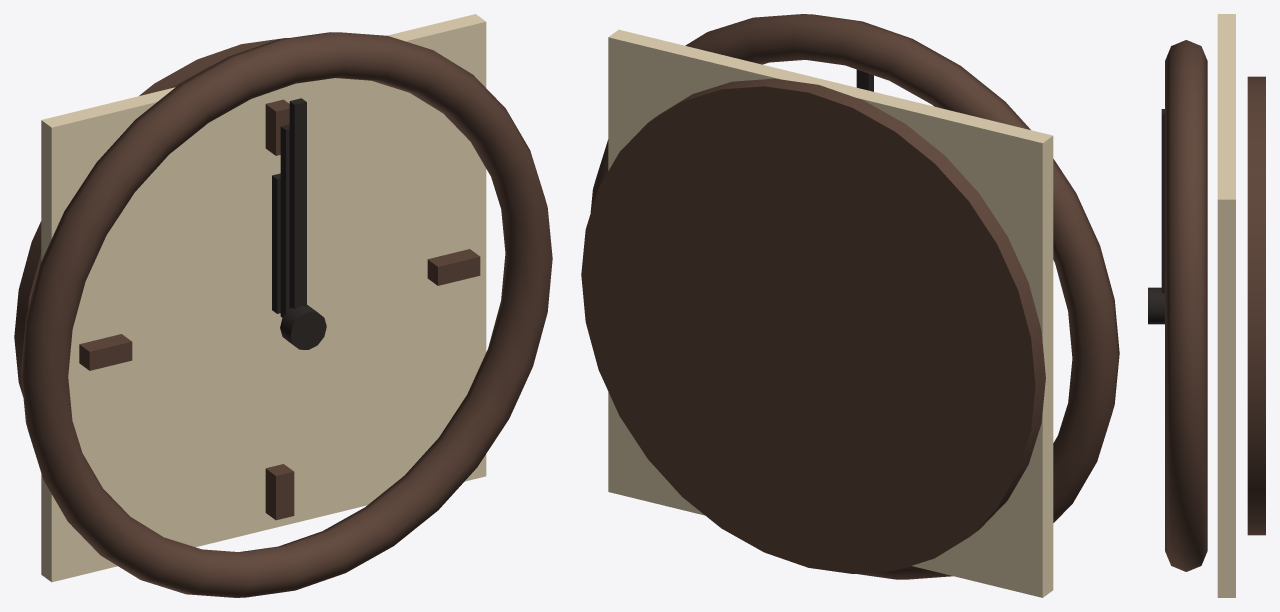
File: analog-round-v1-model.glb
3 views of the same model, side by side, from view 1: azimuth 30°, elevation 25°; view 2: azimuth 150°, elevation 25°; view 3: azimuth 270°, elevation 25° (orthographic). The views are drawn at different scales.
Parts seen in each view (by area): view 1: clock-face, clock-round-rim, clock-second-hand, clock-back, clock-minute-hand, clock-center-cap, clock-marker-3, clock-marker-2, clock-marker-4, clock-hour-hand, clock-marker-1; view 2: clock-back, clock-face, clock-round-rim; view 3: clock-round-rim, clock-face, clock-back, clock-second-hand, clock-center-cap.
Boxes of the visible parts, left/top/right/bottom form: clock-face: left=41, top=14, right=486, bottom=582; clock-round-rim: left=21, top=32, right=552, bottom=597; clock-second-hand: left=289, top=98, right=306, bottom=309; clock-back: left=14, top=38, right=287, bottom=396; clock-minute-hand: left=280, top=124, right=289, bottom=317; clock-center-cap: left=280, top=305, right=326, bottom=349; clock-marker-3: left=265, top=464, right=294, bottom=520; clock-marker-2: left=427, top=249, right=480, bottom=285; clock-marker-4: left=79, top=334, right=132, bottom=370; clock-hour-hand: left=272, top=173, right=280, bottom=313; clock-marker-1: left=265, top=99, right=289, bottom=155; clock-back: left=581, top=78, right=1045, bottom=573; clock-face: left=608, top=29, right=1053, bottom=597; clock-round-rim: left=590, top=14, right=1119, bottom=579; clock-round-rim: left=1165, top=40, right=1207, bottom=571; clock-face: left=1217, top=14, right=1235, bottom=597; clock-back: left=1247, top=76, right=1265, bottom=535; clock-second-hand: left=1161, top=109, right=1164, bottom=293; clock-center-cap: left=1148, top=287, right=1164, bottom=324.
Size of the model in its own units: 0.348 by 0.348 by 0.077.
